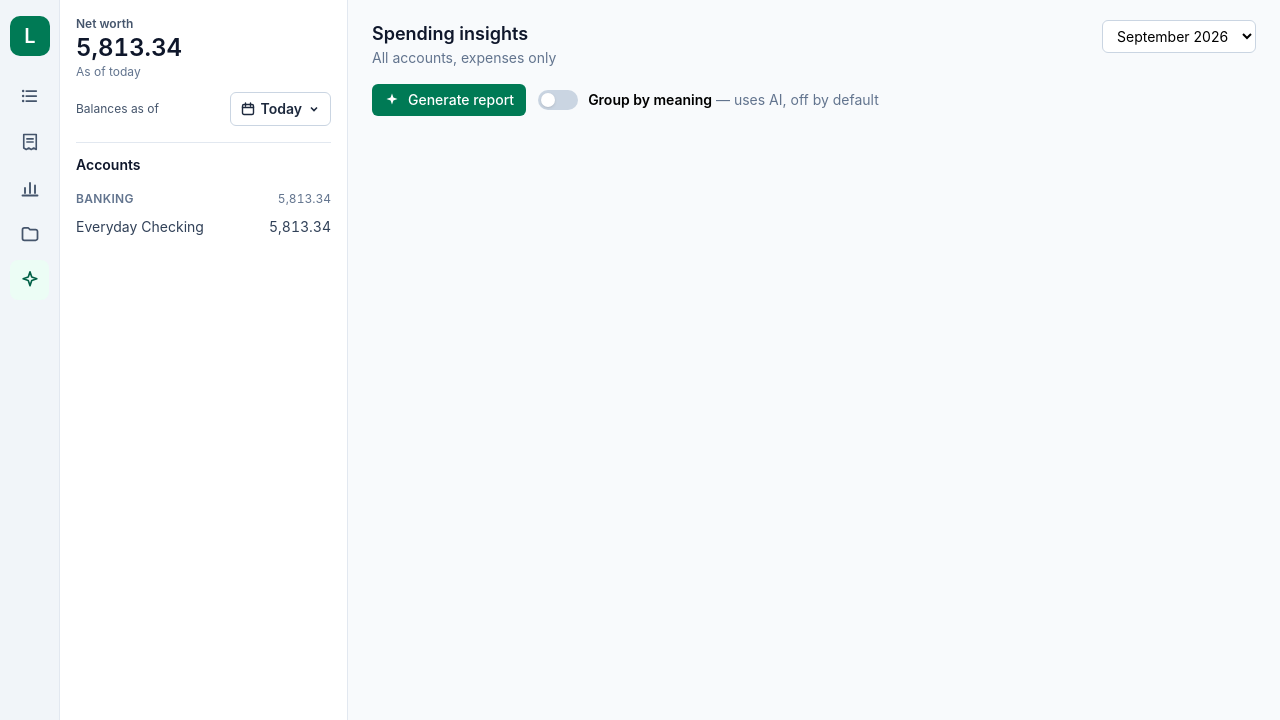
asks for consent before the switch turns on, then groups by meaning
Click the switch labelled "Group by meaning": (708, 100) [538,90,879,110]
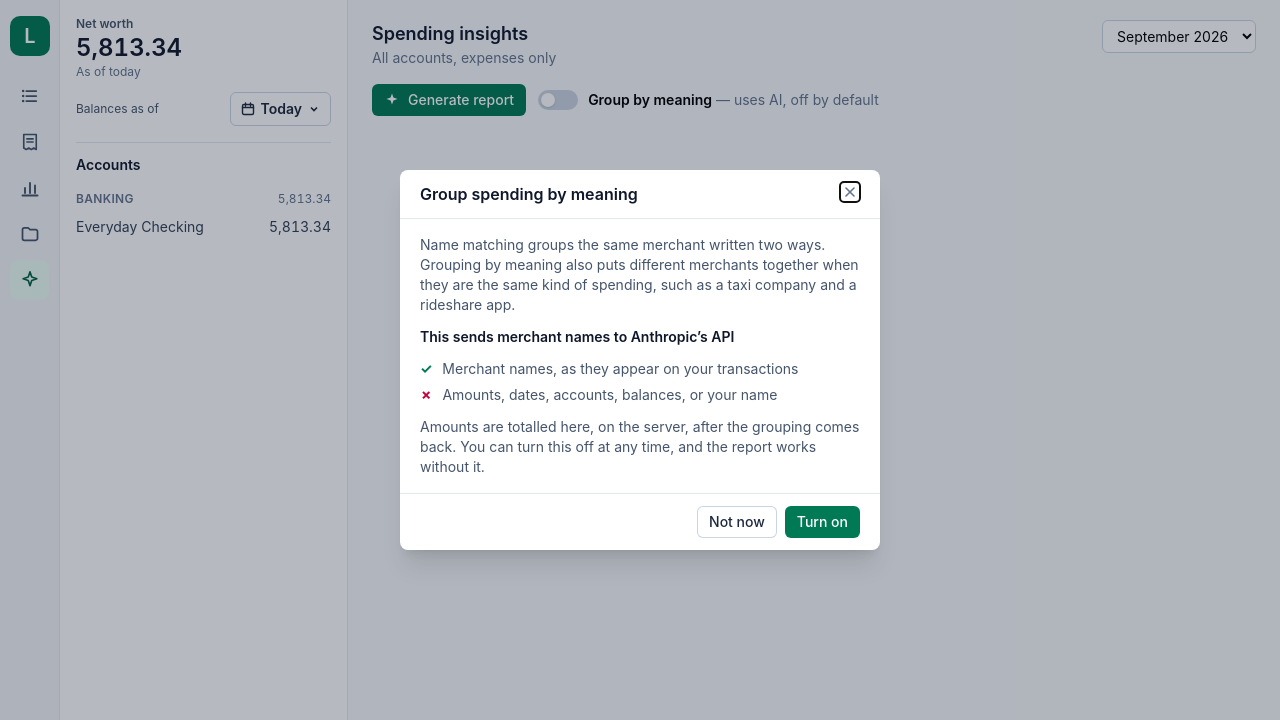
expect the text "This sends merchant names to Anthropic’s API" is shown: met, box [420,328,734,345]
expect the text "Amounts, dates, accounts, balances, or your name" is shown: met, box [442,385,777,405]
Click the button "Turn on": (822, 522) [785,506,860,538]
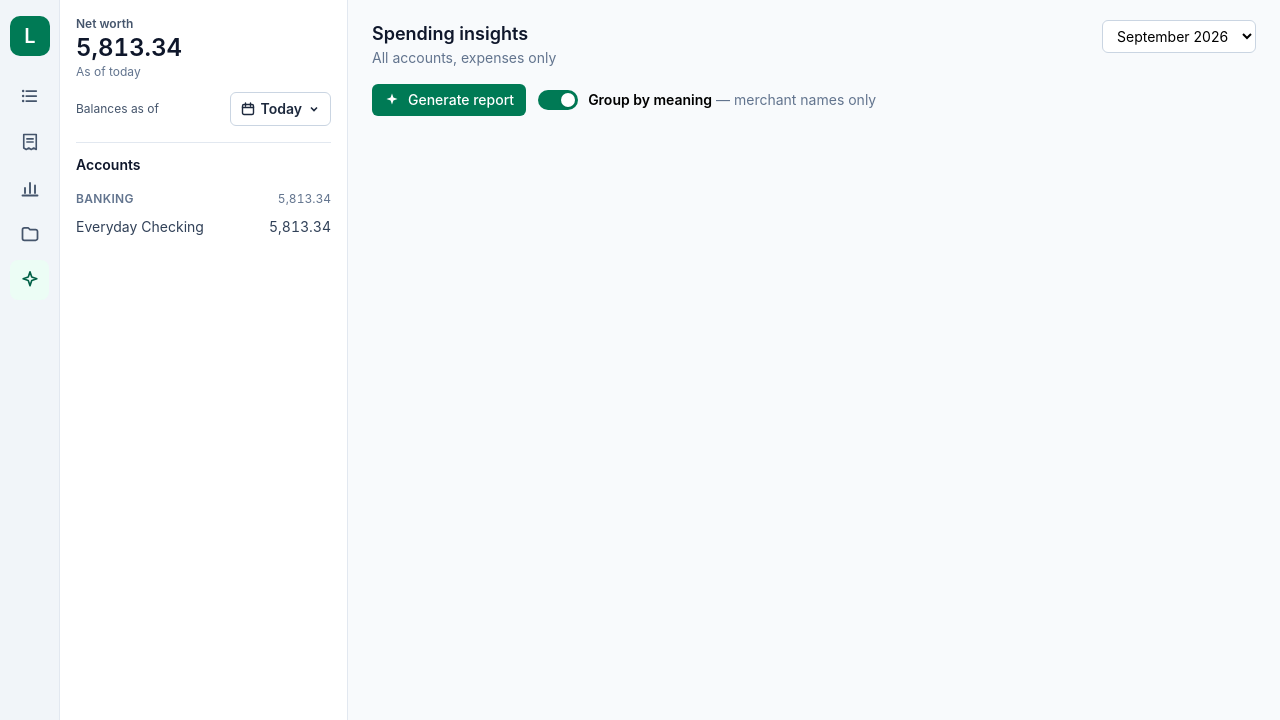
expect the switch labelled "Group by meaning" is checked: met, box [538,90,876,110]
Click the button "Generate report": (449, 100) [372,84,526,116]
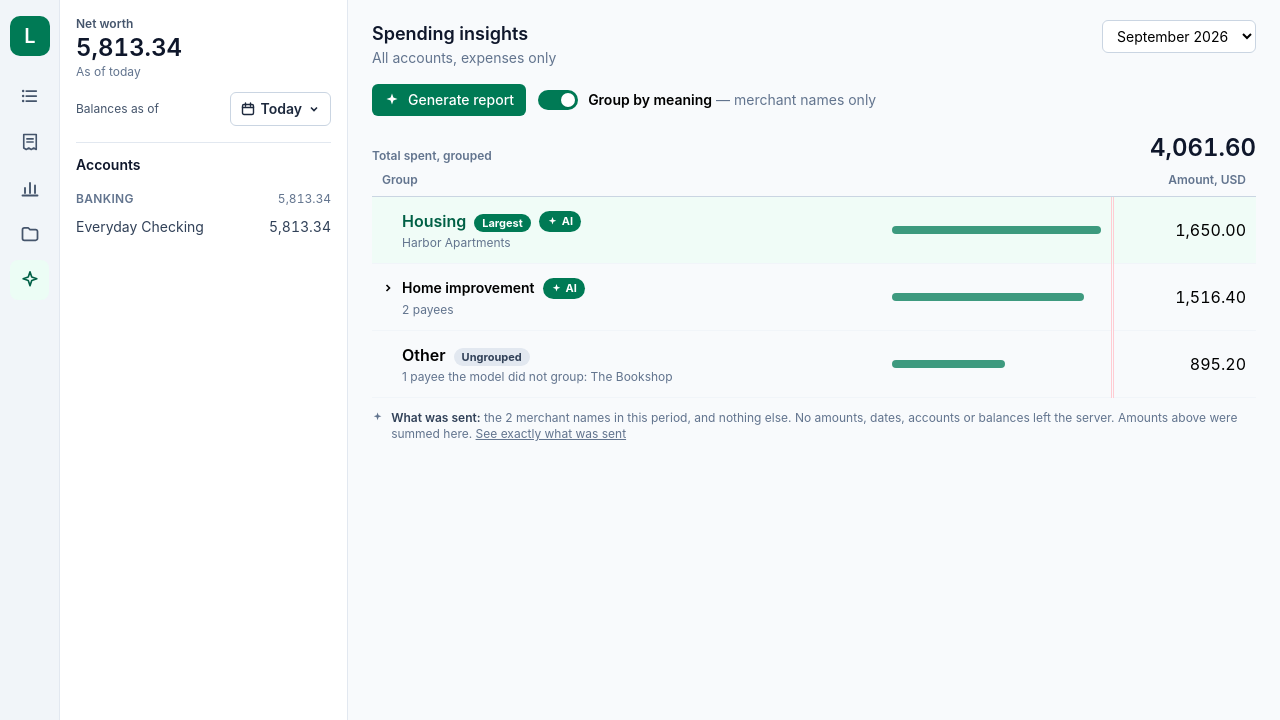
expect the text "Home improvement" is shown: met, box [402,278,534,298]
expect the number of elements titled "Grouped by AI" is 2: met, box [539,211,581,232]; [542,278,585,299]
expect the text "Ungrouped" is shown: met, box [454,348,530,366]
Click the button "Home improvement": (458, 288) [382,278,534,298]
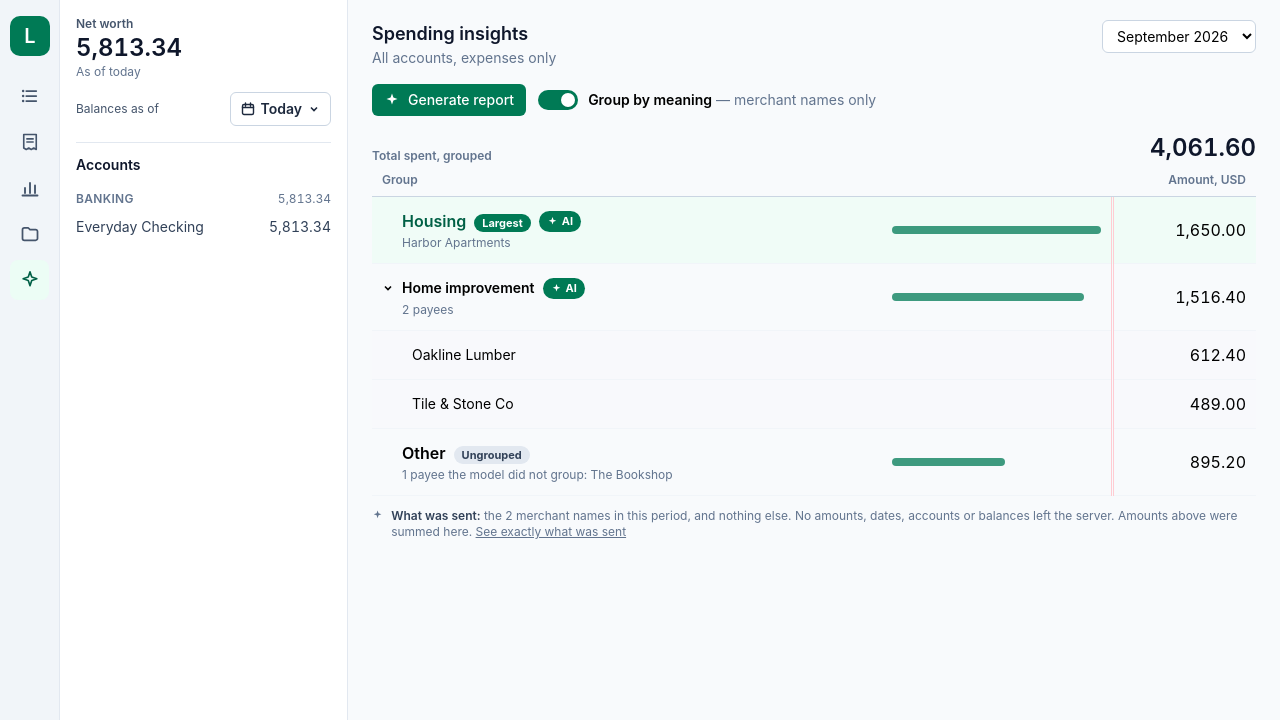
expect the text "Tile & Stone Co" is shown: met, box [372,380,1112,428]
Click the button "See exactly what was sent": (551, 532) [476,524,626,540]
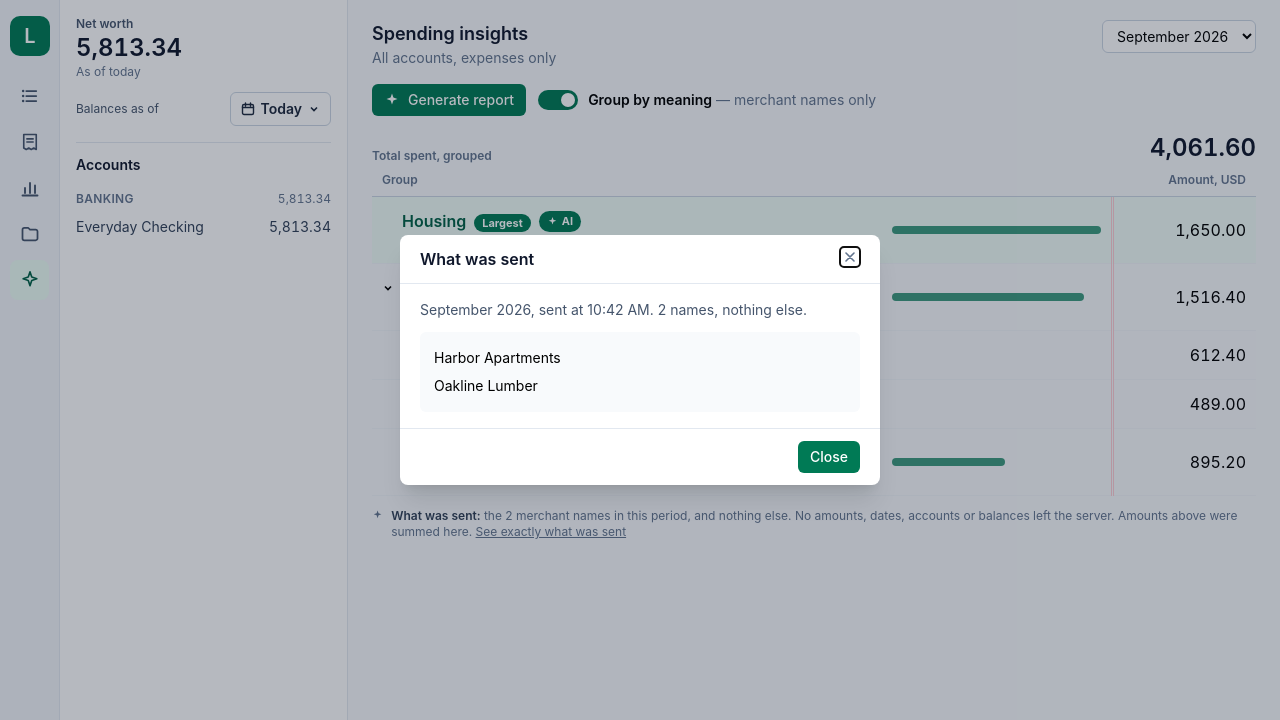
expect the text "September 2026, sent at 10:42 AM. 2 names, nothing else." is shown: met, box [420,300,860,320]
